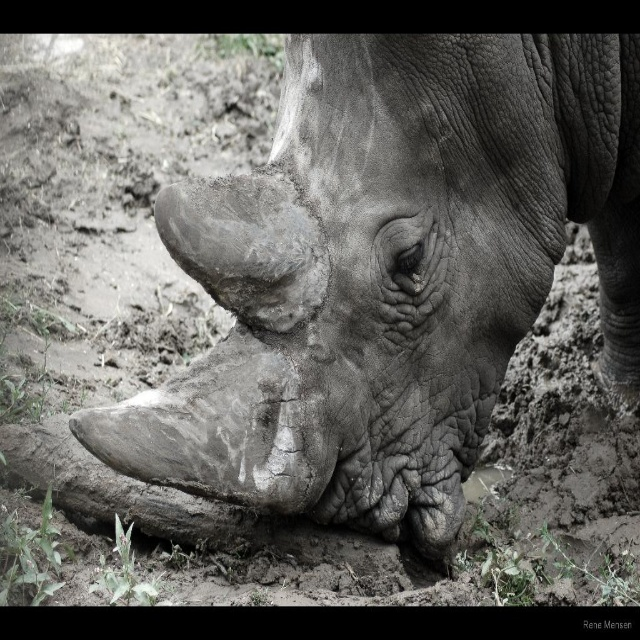Rhinoceros: (61, 27, 640, 557)
